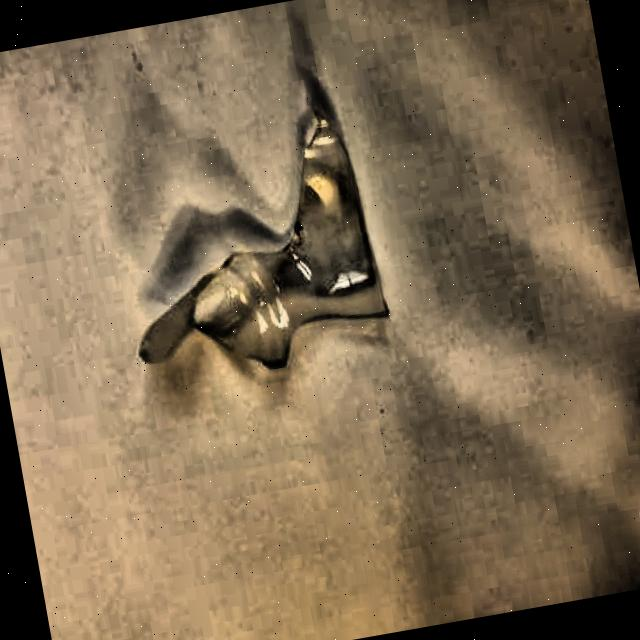glass: (98, 80, 410, 423)
